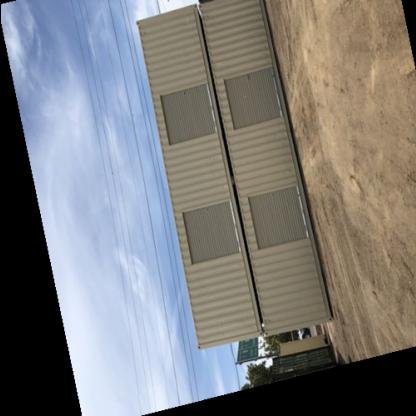Damage: (281, 149, 293, 175), (235, 67, 252, 81), (174, 86, 190, 100)
